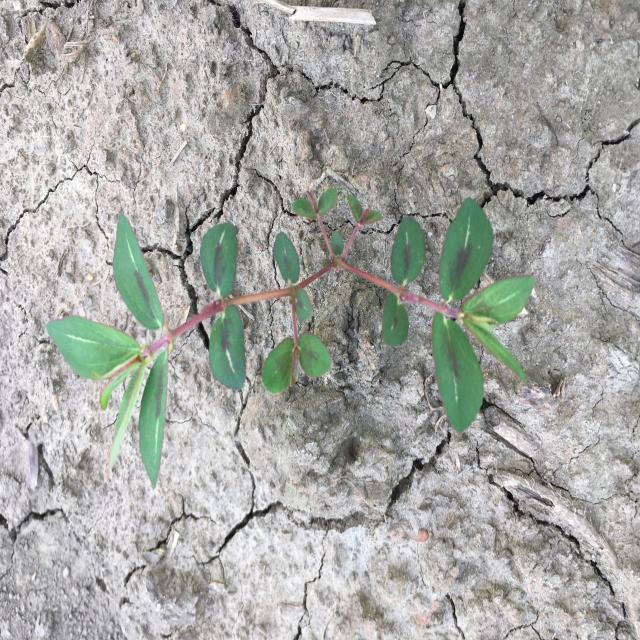SpottedSpurge: (45, 188, 535, 487)
